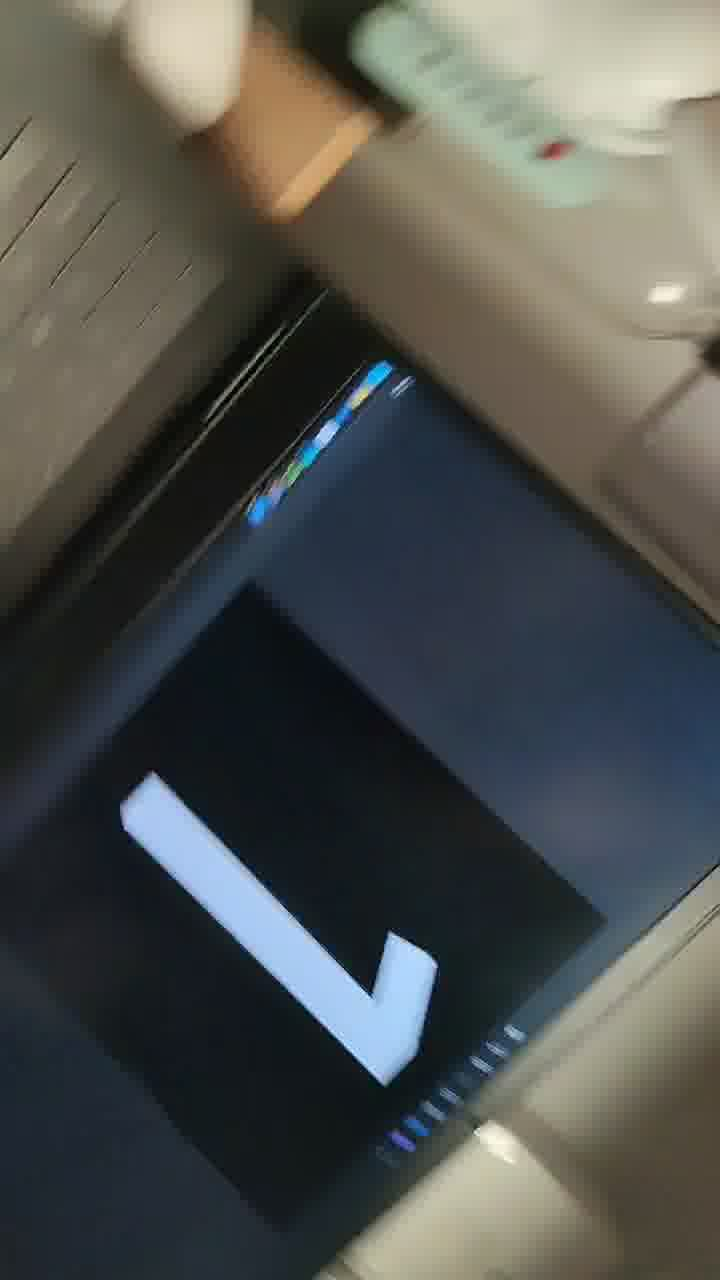one: (89, 720, 478, 1129)
